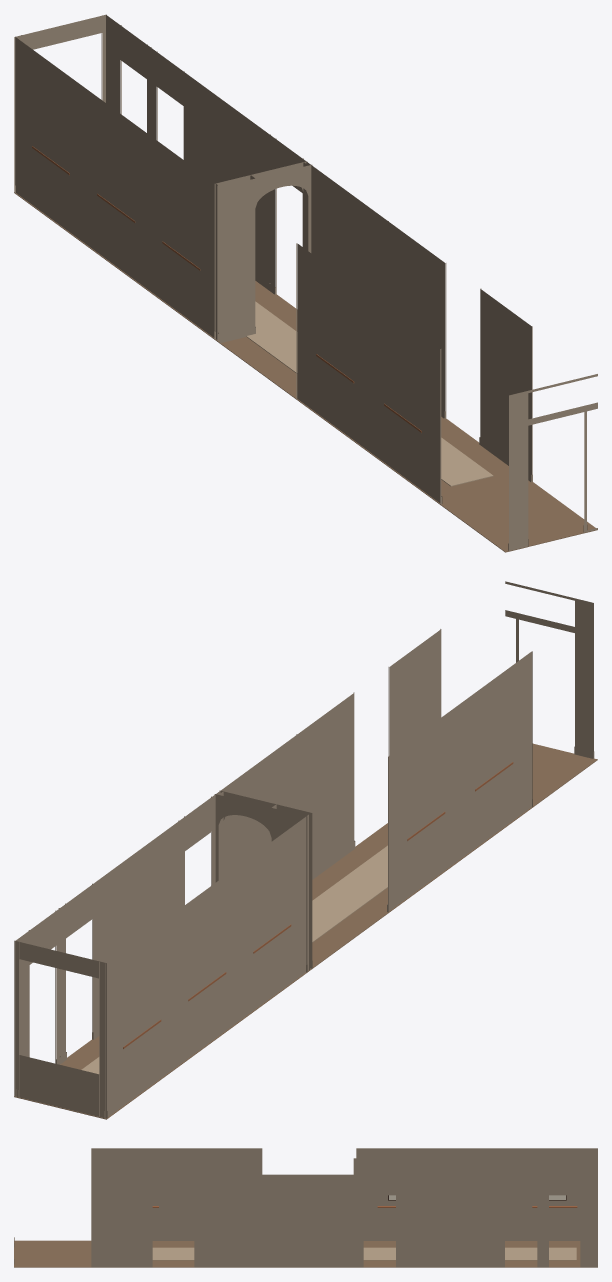
The model's file is corridor-1.glb.
The picture shows the model from 3 angles, top to bottom: view 1: azimuth 30°, elevation 25°; view 2: azimuth 150°, elevation 25°; view 3: azimuth 270°, elevation 25°; orthographic projection. The views are drawn at different scales.
Parts seen in each view (by area): view 1: DESIGN | corridor removable wall finish, DESIGN | corridor floor finish, DESIGN | Quiet hall runner; view 2: DESIGN | corridor removable wall finish, DESIGN | corridor floor finish, DESIGN | Quiet hall runner; view 3: DESIGN | corridor removable wall finish, DESIGN | corridor floor finish, DESIGN | Quiet hall runner.
Part boxes in pixels (bbox=[...]): DESIGN | corridor removable wall finish: bbox=[14, 14, 597, 550]; DESIGN | corridor floor finish: bbox=[14, 192, 597, 552]; DESIGN | Quiet hall runner: bbox=[246, 301, 493, 486]; DESIGN | corridor removable wall finish: bbox=[14, 581, 594, 1118]; DESIGN | corridor floor finish: bbox=[14, 743, 597, 1119]; DESIGN | Quiet hall runner: bbox=[81, 845, 387, 1074]; DESIGN | corridor removable wall finish: bbox=[14, 1148, 597, 1267]; DESIGN | corridor floor finish: bbox=[14, 1240, 597, 1267]; DESIGN | Quiet hall runner: bbox=[152, 1247, 576, 1260].
Size of the model in its own units: 1.7 by 2.74 by 15.63.
